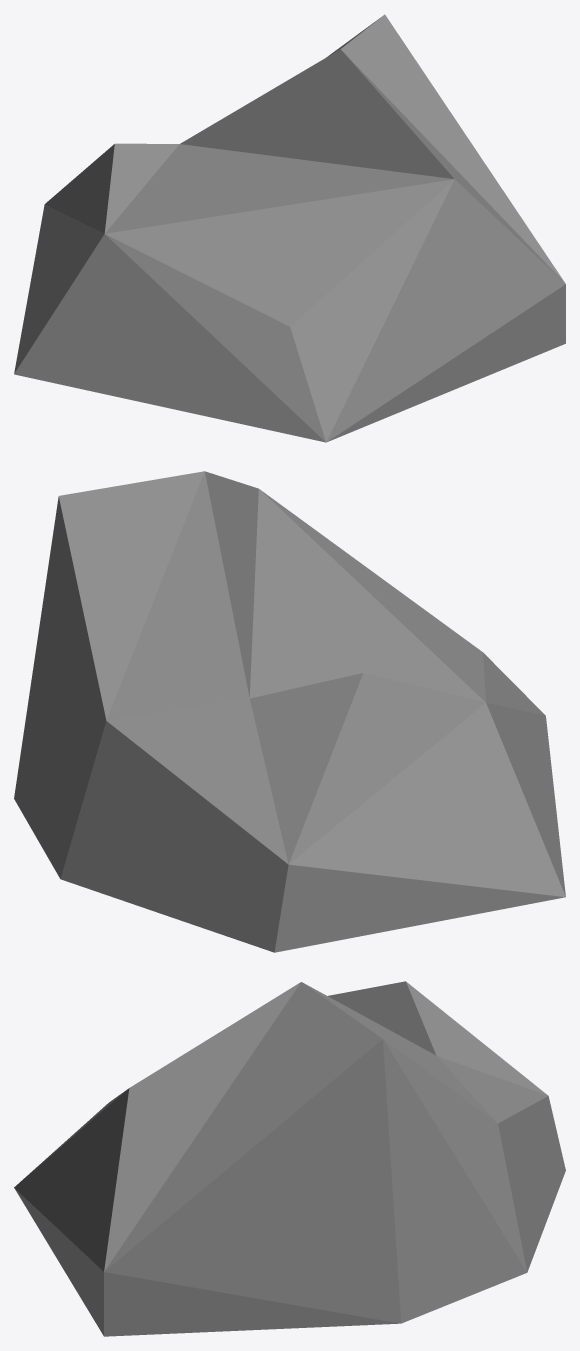
The model's file is Stone_B_20.FBX.
3 views of the same model, one above another, from view 1: azimuth 30°, elevation 25°; view 2: azimuth 150°, elevation 25°; view 3: azimuth 270°, elevation 25° (orthographic). The views are drawn at different scales.
Visible parts, largest first — view 1: Stone_B_20; view 2: Stone_B_20; view 3: Stone_B_20.
Part boxes in pixels (box(x1,y1,x2,y2)): Stone_B_20: box(14, 14, 565, 442); Stone_B_20: box(14, 471, 565, 952); Stone_B_20: box(14, 981, 565, 1336).
Size of the model in its own units: 1.24 by 0.6914 by 1.22.
